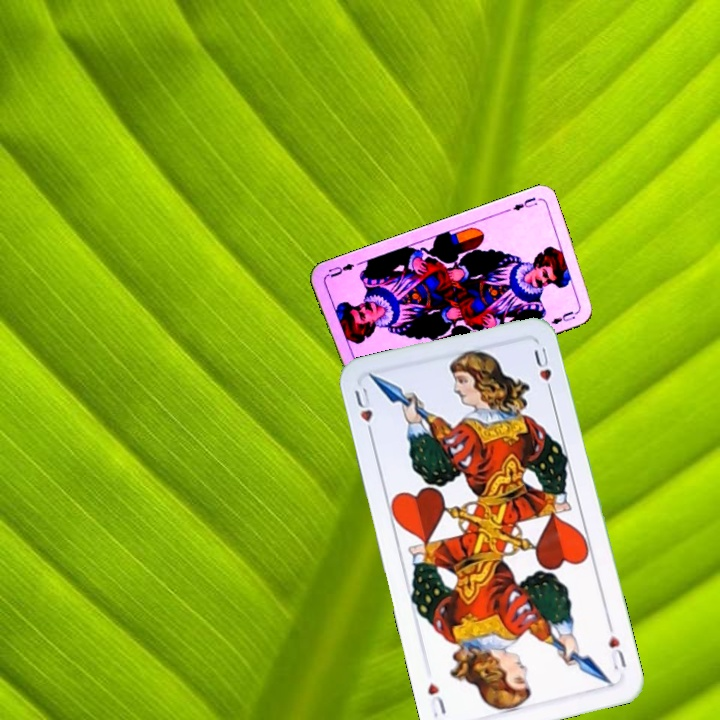EU: (509, 193, 540, 213)
HU: (350, 383, 376, 441), (604, 619, 629, 673)
